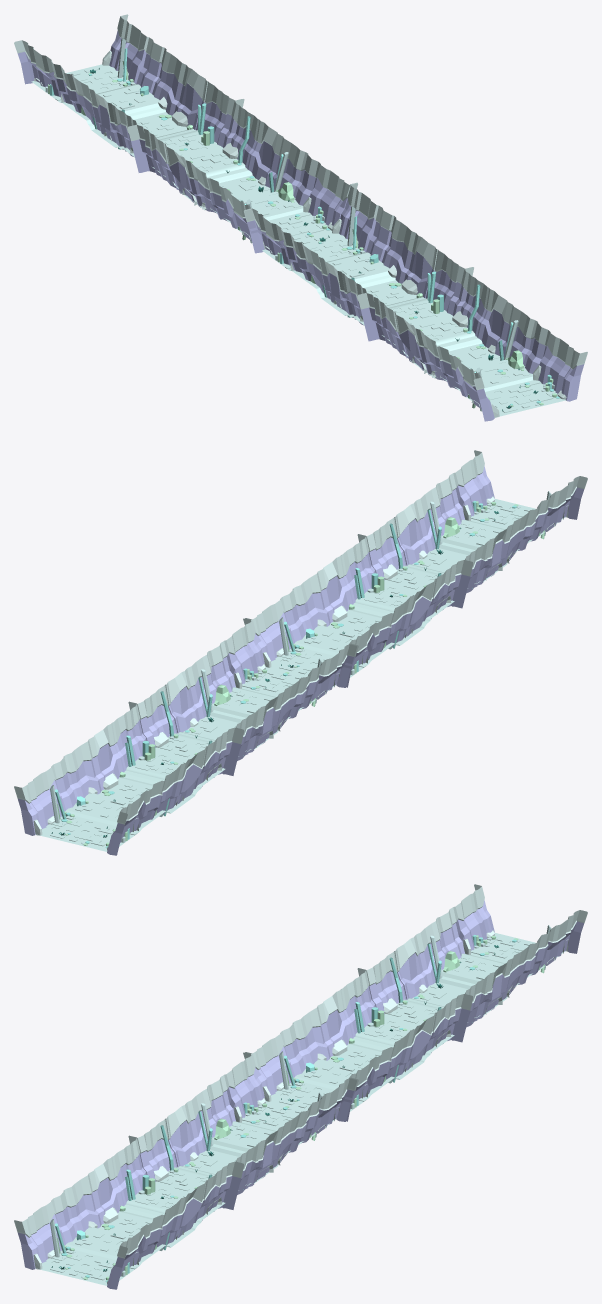
The model's file is NewNewPathBigger.fbx.
3 renders of one model, top to bottom at view 1: azimuth 30°, elevation 25°; view 2: azimuth 150°, elevation 25°; view 3: azimuth 330°, elevation 25°, orthographic.
Parts seen in each view (by area): view 1: polySurface317; view 2: polySurface317; view 3: polySurface317.
Part boxes in pixels (x1,y1,x2,y2): polySurface317: (14,14,587,421); polySurface317: (14,450,587,855); polySurface317: (14,884,587,1289).
Bounding box in the file's own units: 9.64 × 4.18 × 65.94.
